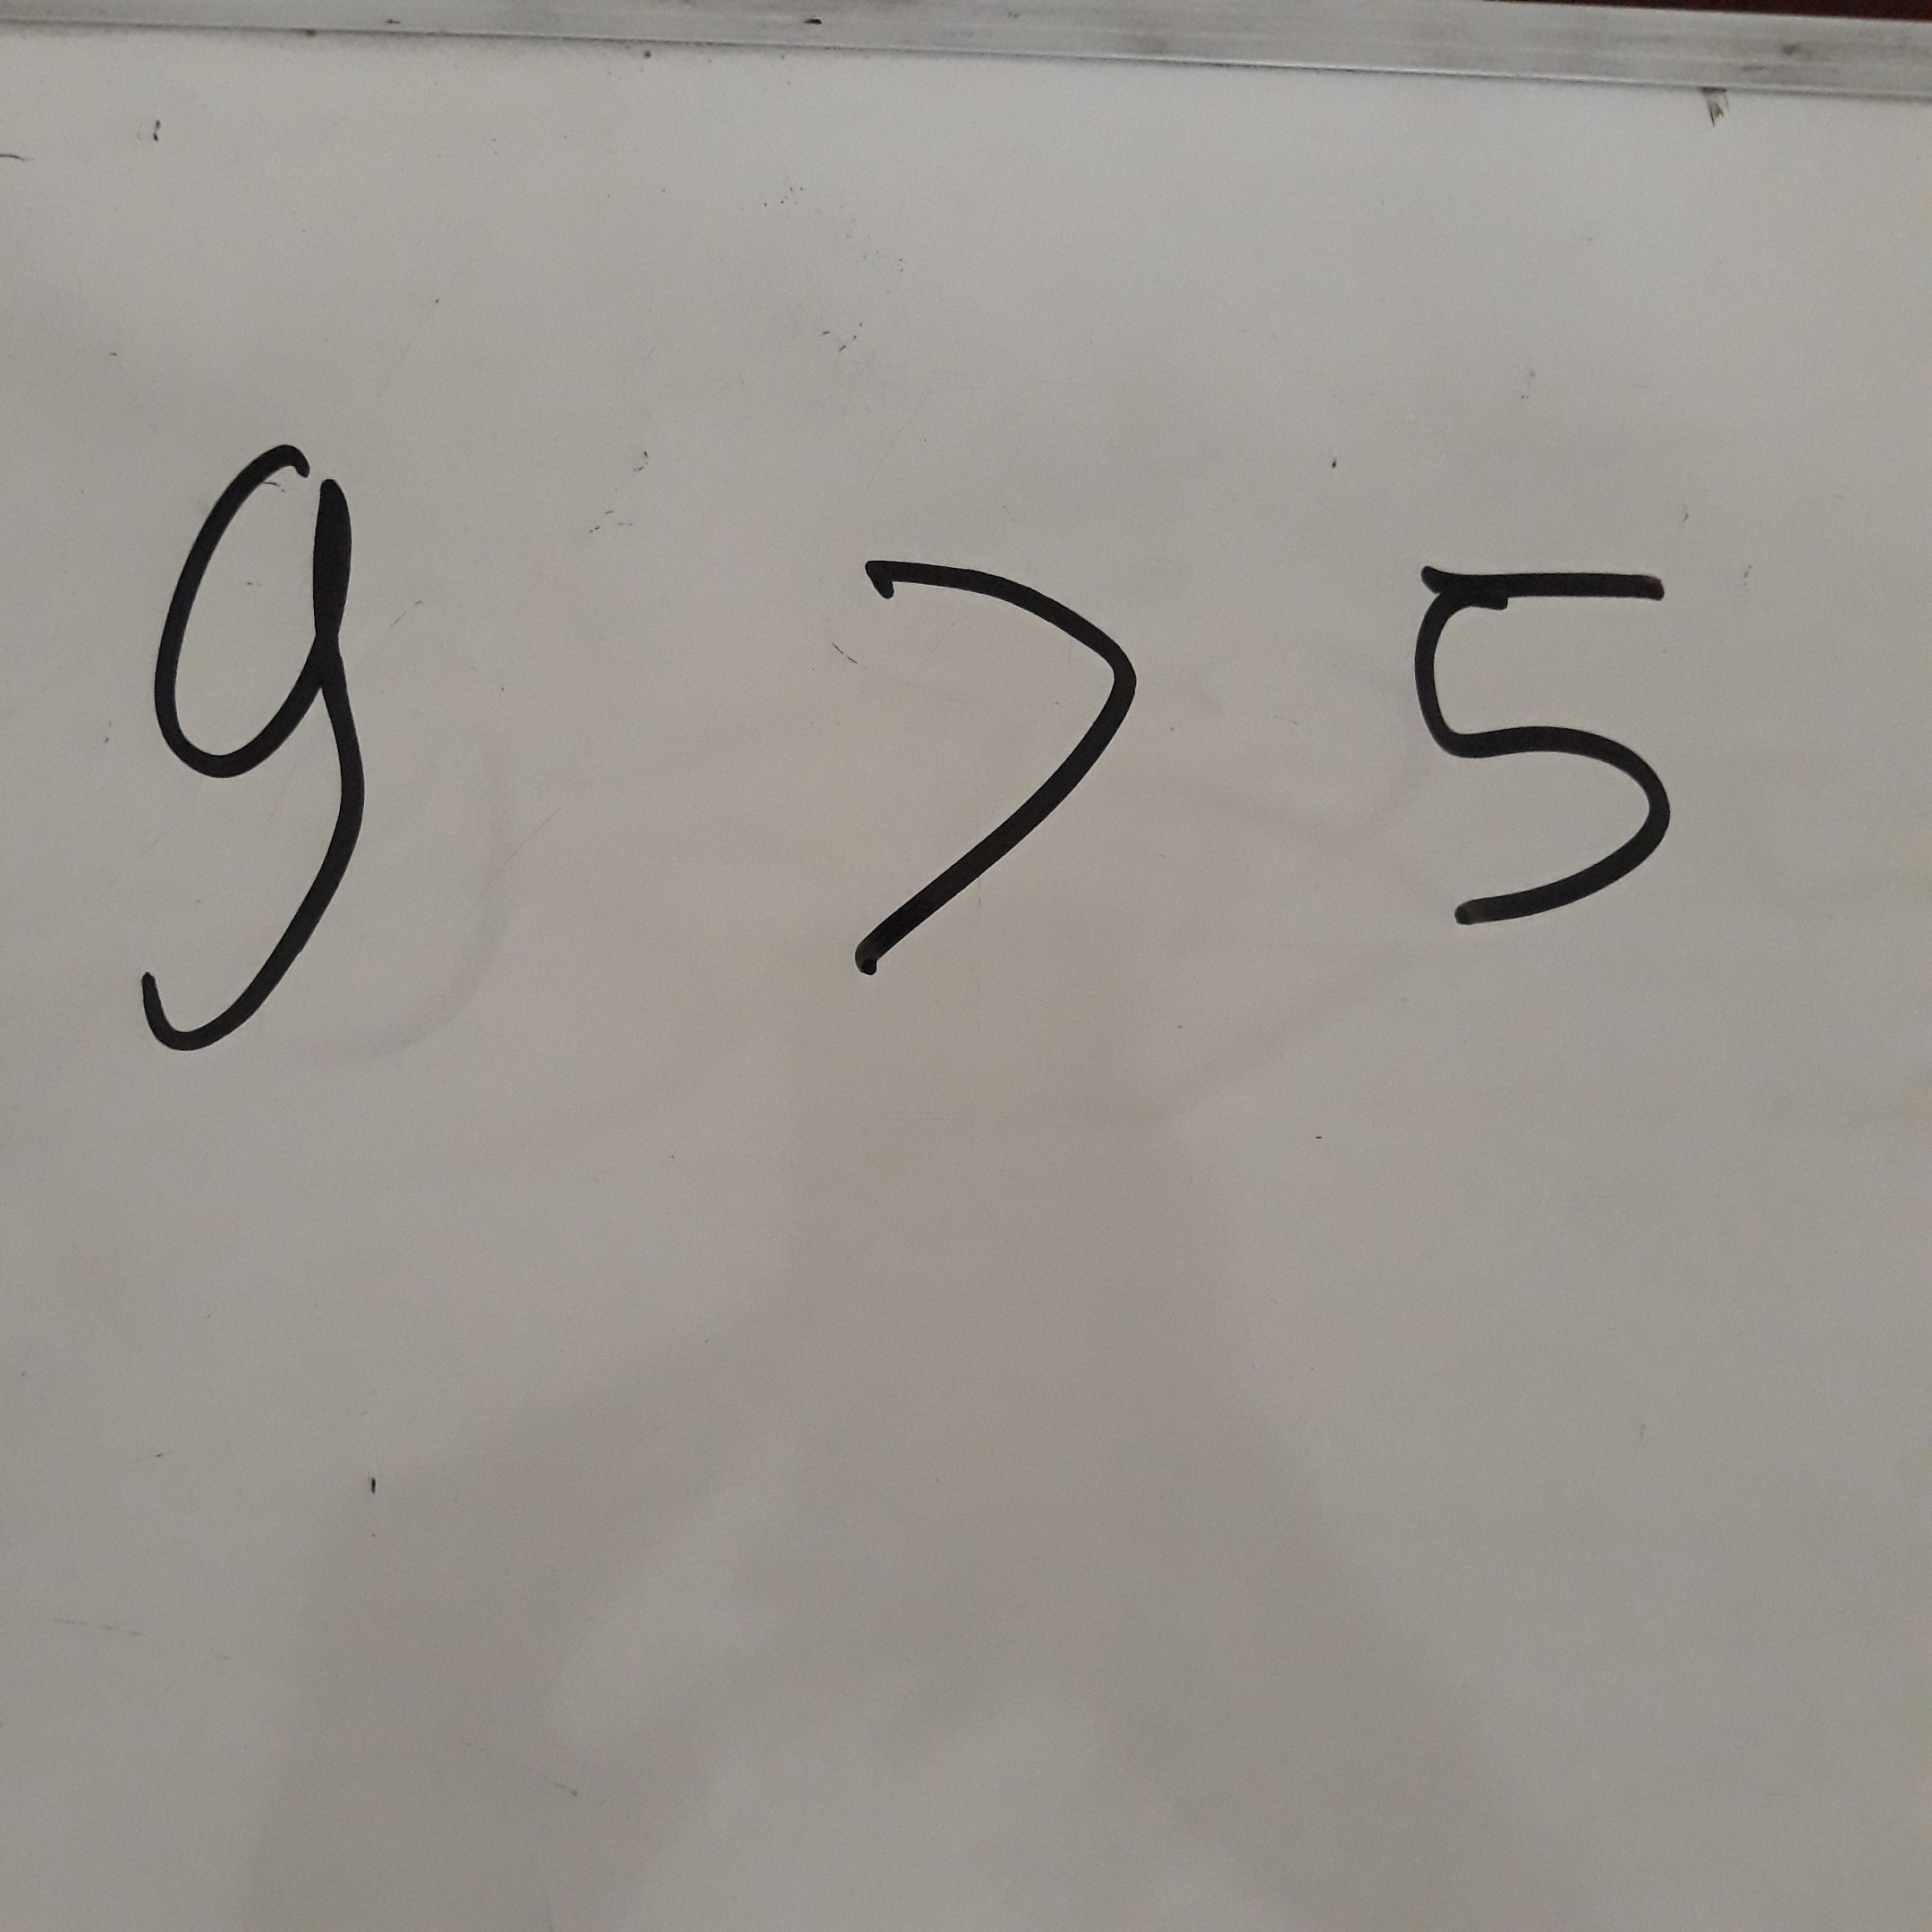morethan: (794, 519, 1169, 1011)
num5: (1364, 536, 1718, 957)
num9: (79, 400, 427, 1078)
